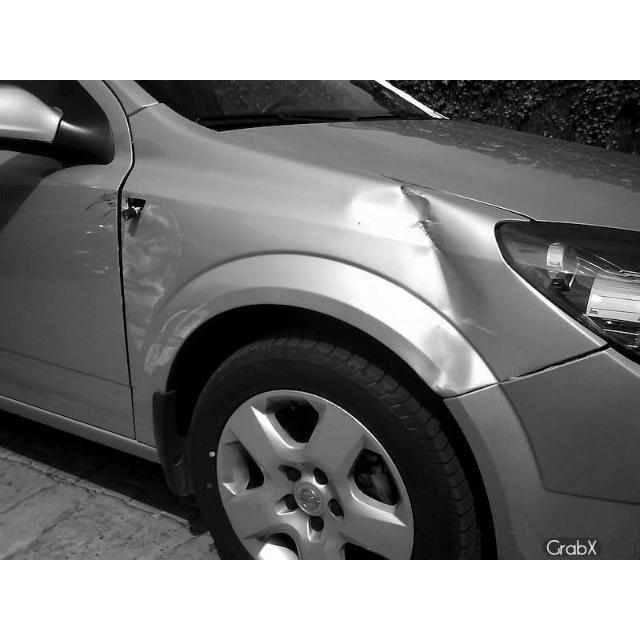fender-dent: (243, 171, 529, 357)
